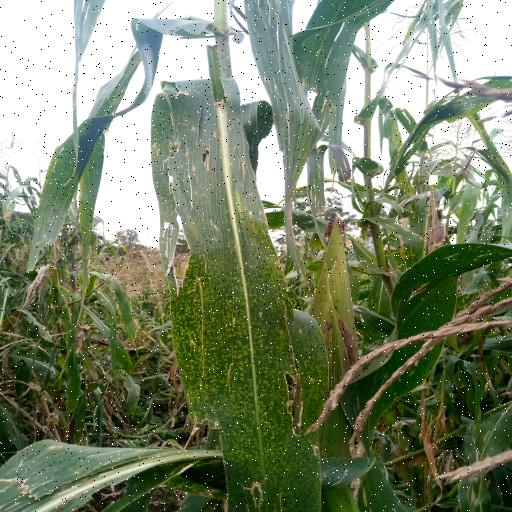Corn_Brown_Spots: (143, 68, 326, 503)
